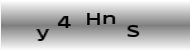4: (56, 15, 71, 28)
H: (86, 11, 101, 25)
S: (126, 24, 139, 37)
n: (102, 14, 116, 25)
y: (35, 27, 49, 41)
